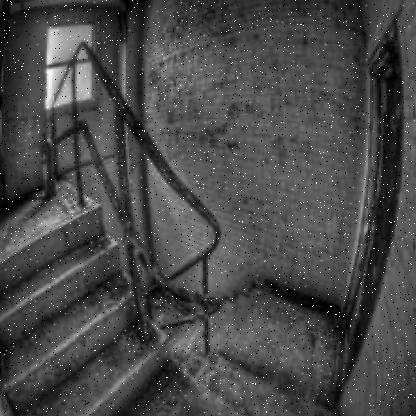stair_down: (139, 207, 313, 350)
